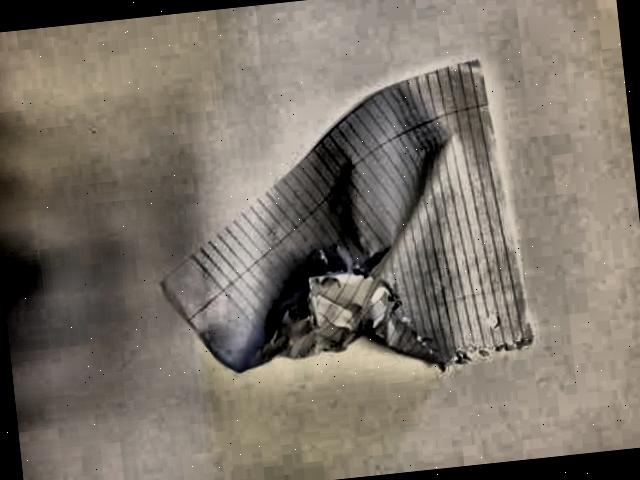Paper: (143, 48, 540, 428)
